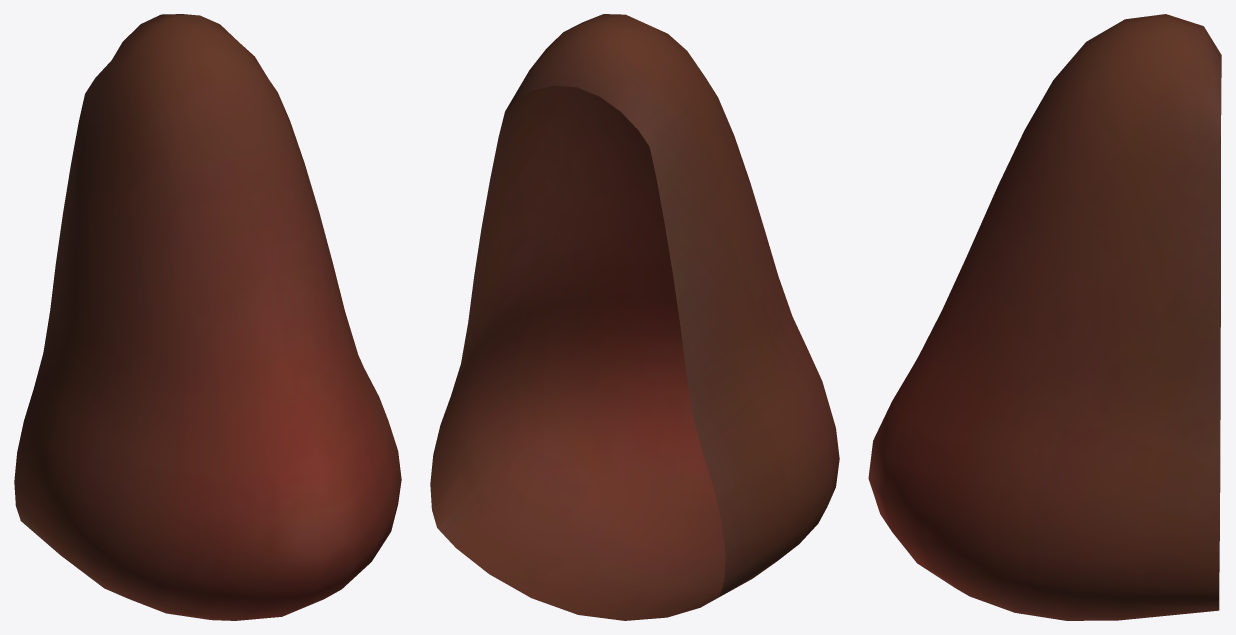
The model's file is noose1.glb.
3 renders of one model, left to right at view 1: azimuth 30°, elevation 25°; view 2: azimuth 150°, elevation 25°; view 3: azimuth 270°, elevation 25°, orthographic. The views are drawn at different scales.
Parts seen in each view (by area): view 1: nose.000; view 2: nose.000; view 3: nose.000.
Boxes of the visible parts, x1,y1,x2,y2 form: nose.000: (14, 14, 401, 620); nose.000: (430, 14, 839, 620); nose.000: (868, 14, 1221, 620).
Bounding box in the file's own units: 0.1815 × 0.2993 × 0.1657.
1 material, 1 textured.
